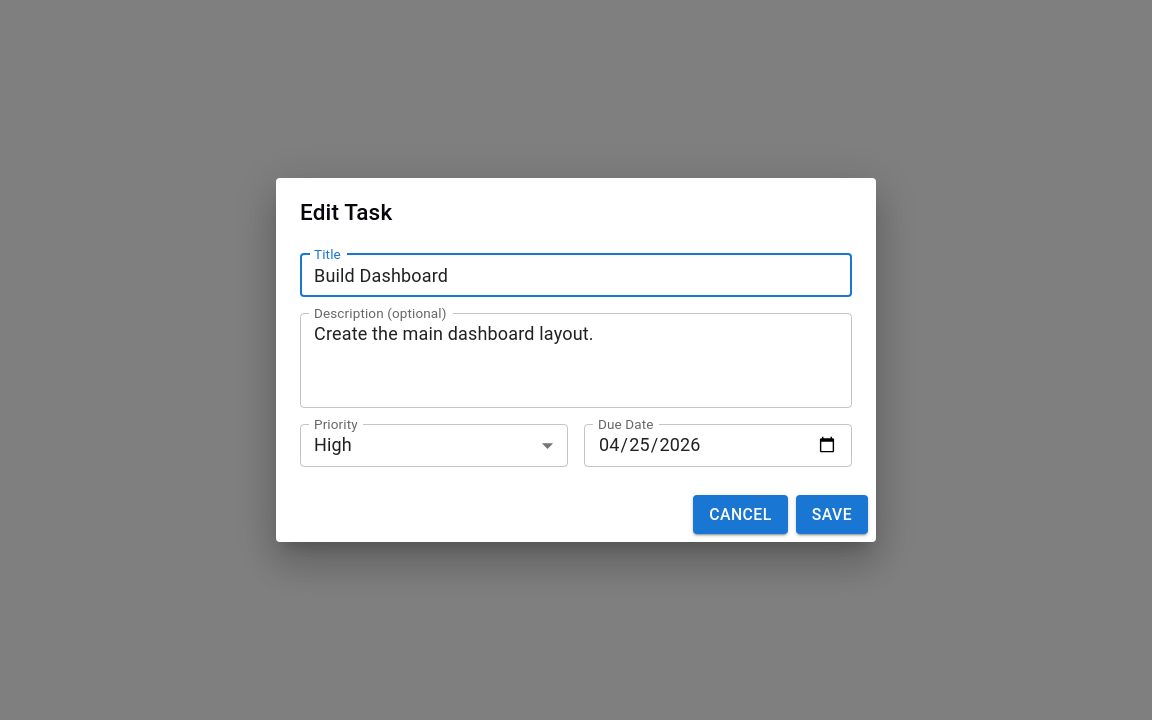
EditTaskModal › shows validation error when due date is cleared
Step 1. Clear the date field showing "2026-04-25" → (718, 445), box top-left (584, 424), bottom-right (852, 467)
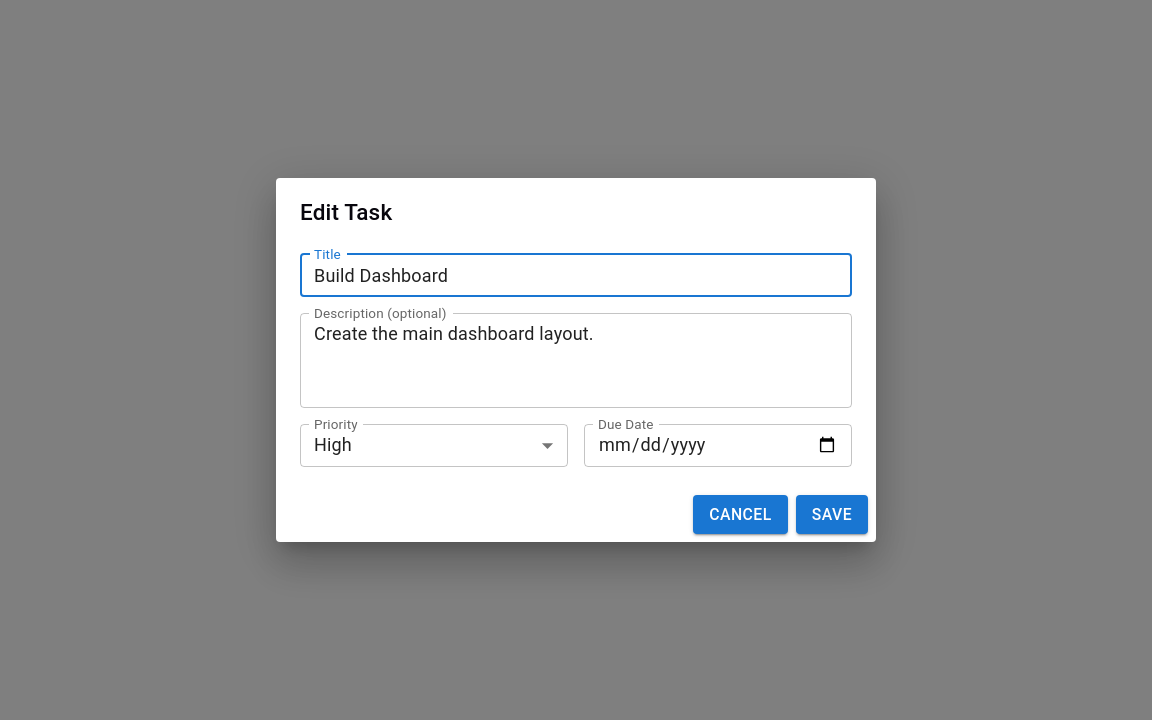
Step 2. Click the button "Save" → click(832, 514), box top-left (796, 495), bottom-right (868, 534)
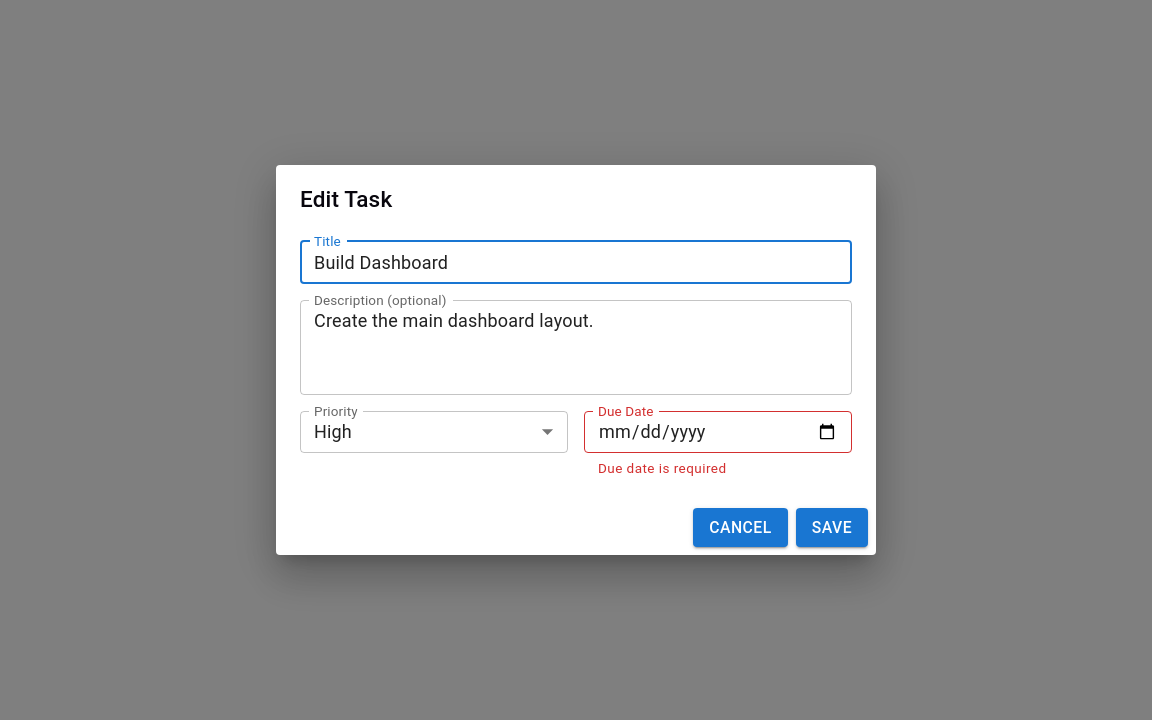
Expected: the text "Due date is required" is shown, top-left (598, 460), bottom-right (726, 476)
